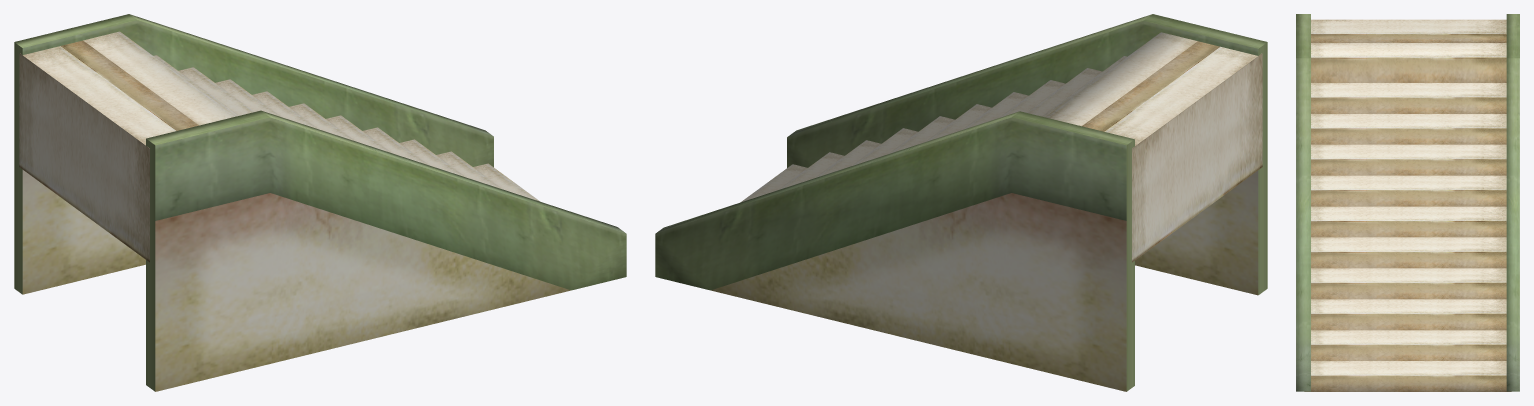
File: a_SEbasket05_2.glb
The picture shows the model from 3 angles, left to right: view 1: azimuth 30°, elevation 25°; view 2: azimuth 150°, elevation 25°; view 3: azimuth 270°, elevation 25°; orthographic projection. The views are drawn at different scales.
Parts seen in each view (by area): view 1: a_SEbasket05_2; view 2: a_SEbasket05_2; view 3: a_SEbasket05_2.
Boxes of the visible parts, x1,y1,x2,y2 form: a_SEbasket05_2: (14, 14, 626, 391); a_SEbasket05_2: (655, 14, 1267, 391); a_SEbasket05_2: (1296, 14, 1519, 391).
Bounding box in the file's own units: 4.16 × 2.11 × 2.16.
Materials: 2 (2 with a texture image).
